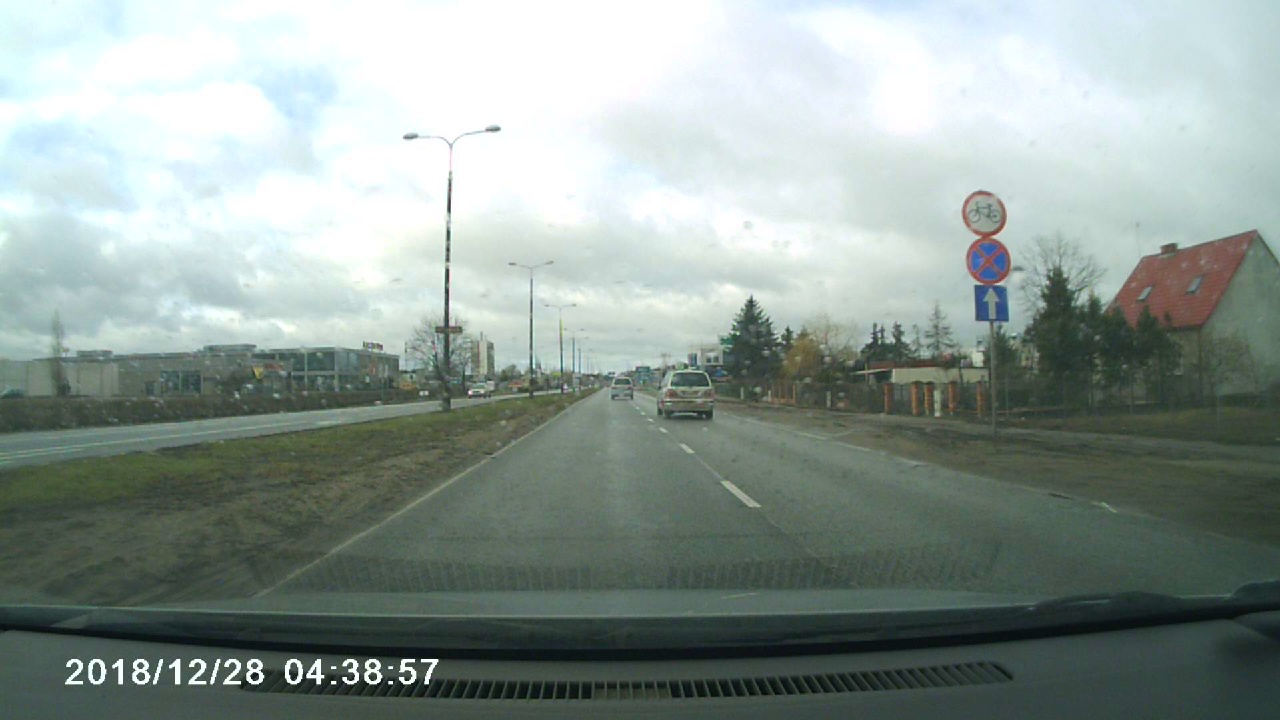B35: (963, 236, 1015, 280)
D3: (967, 287, 1016, 322)
